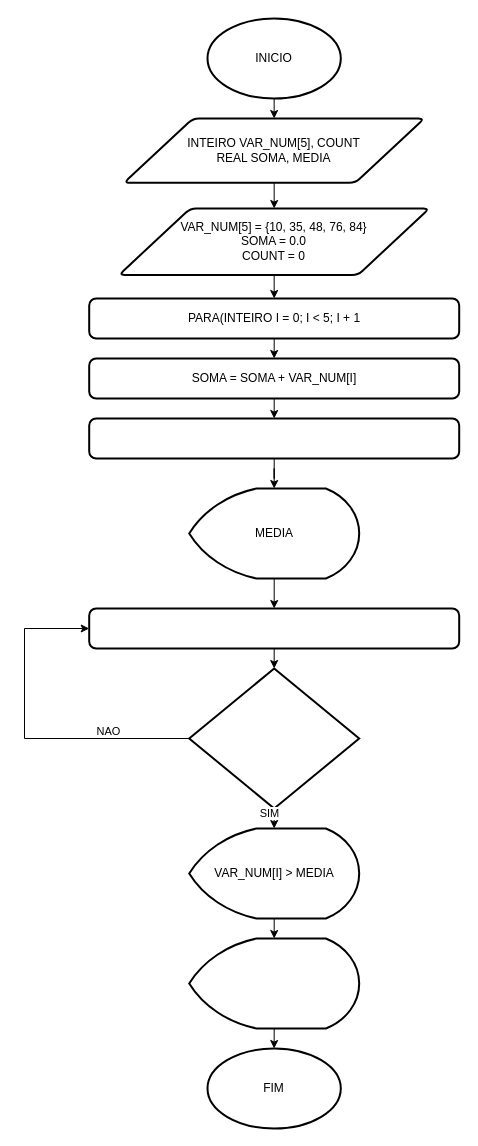
This 478x1146 diagram has some shape labels left out. The centre of each missing label's shape, as x and y in pixels:
"COUNT" belongs at (x=274, y=983).
"MÍDIA = SOMA / 5" belongs at (x=274, y=438).
"PARA(INTEIRO I = 0; I < 5; I + 1 COUNT = COUNT + 1" belongs at (x=274, y=628).
"VAR_NUM[I] > MEDIA?" belongs at (x=274, y=738).
